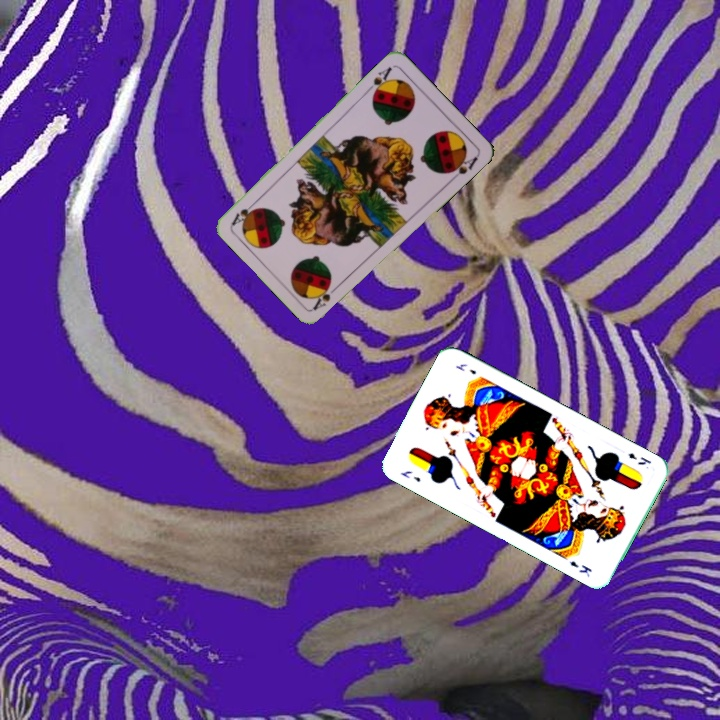EK: (624, 449, 653, 468), (396, 467, 423, 485)
SA: (362, 63, 395, 99), (309, 280, 342, 313)
